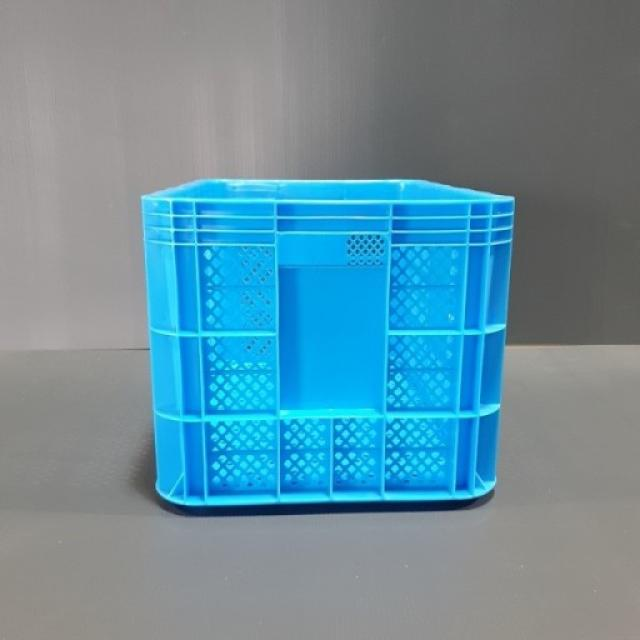basket: (142, 172, 522, 510)
